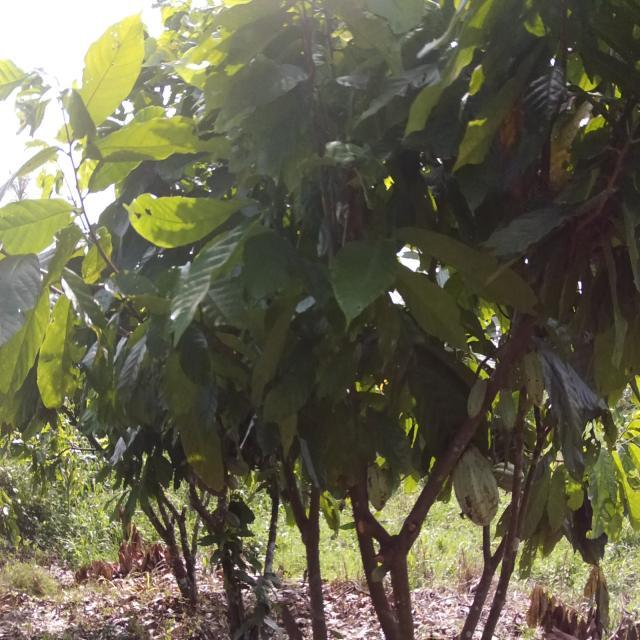Immature: (518, 348, 548, 409), (464, 374, 492, 422), (497, 386, 522, 435)
Mature_Unripe: (454, 445, 508, 535), (366, 465, 397, 514)
